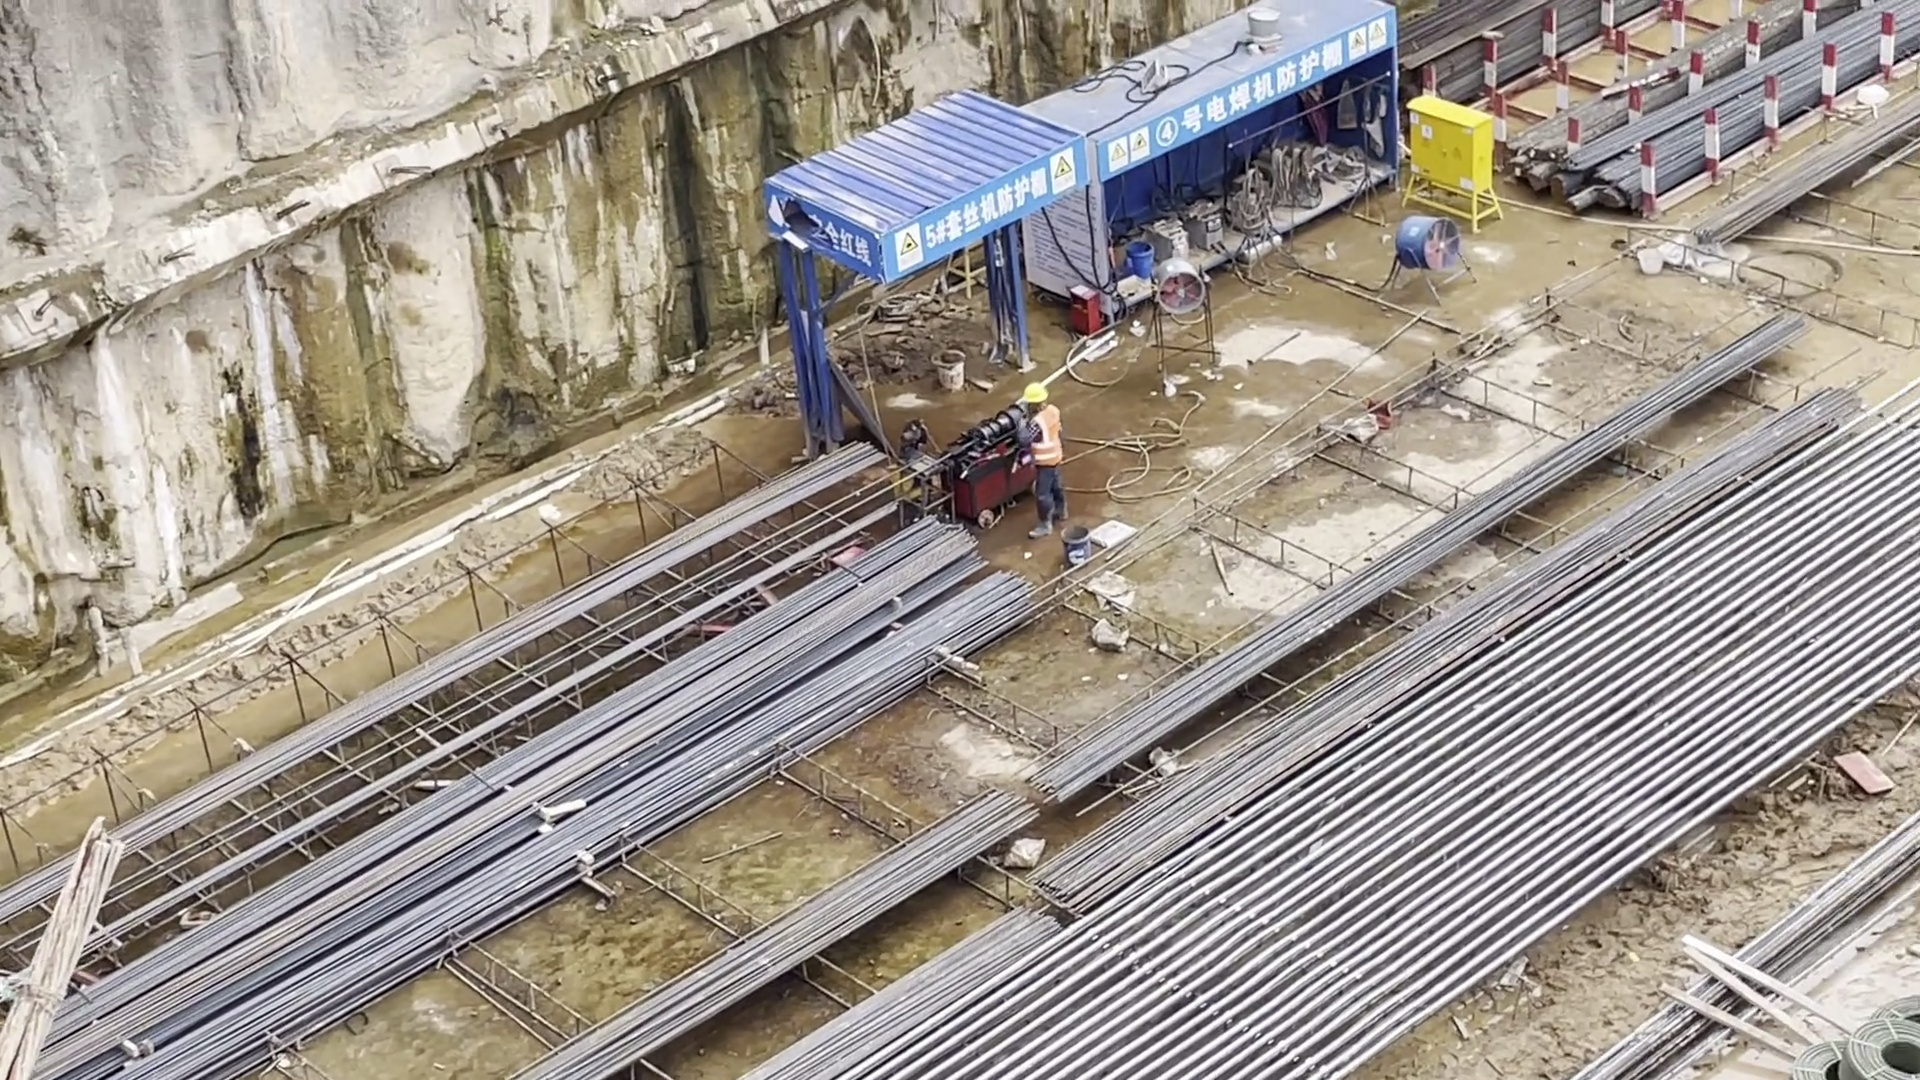ebox: (1402, 91, 1504, 228)
helmet: (1024, 407, 1064, 467), (1023, 382, 1047, 403)
person: (1018, 382, 1071, 541)
rebar: (6, 431, 1030, 1080), (1033, 298, 1855, 918), (1395, 1, 1918, 229)
slogan: (1100, 13, 1394, 186), (887, 136, 1084, 286)
